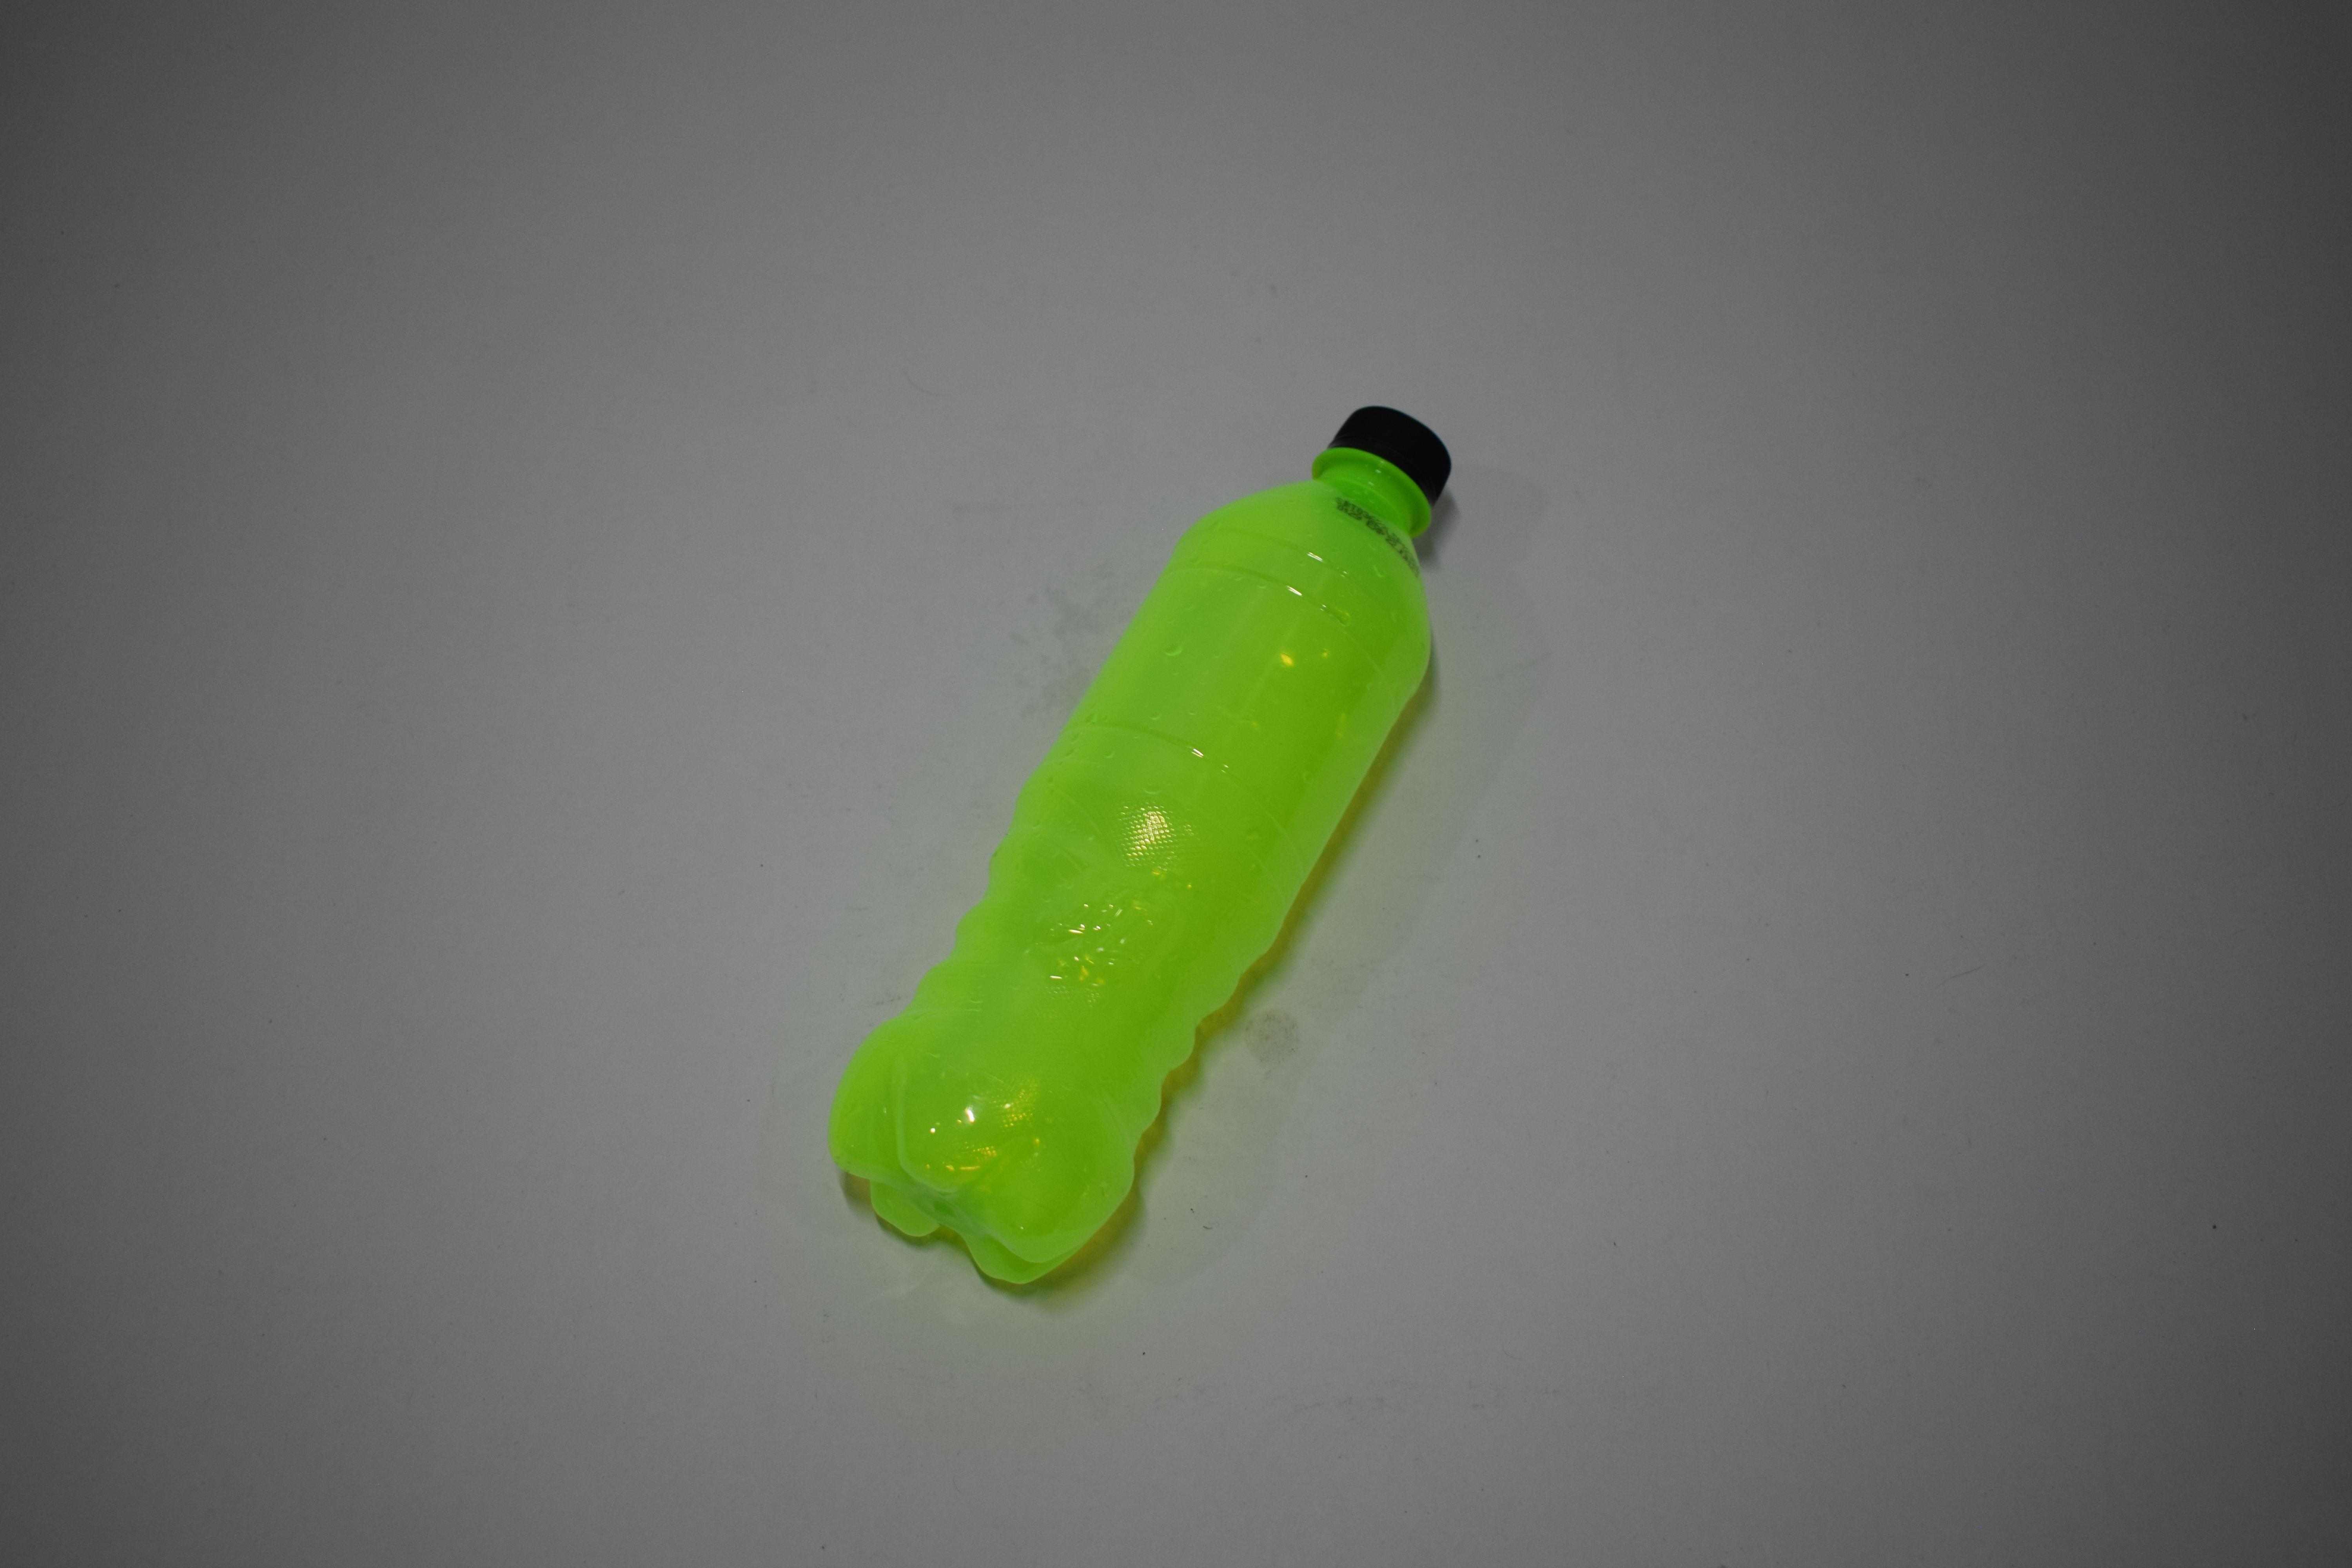bottle: (816, 9, 1447, 121)
